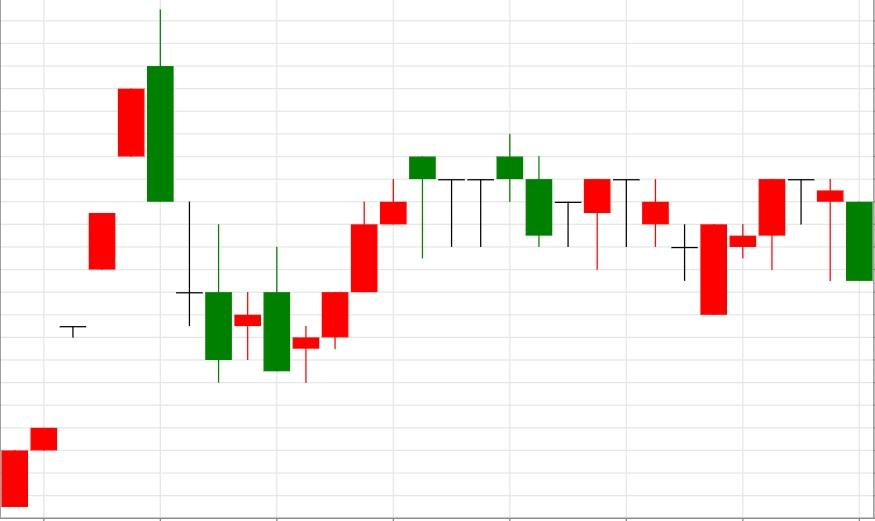bearish_engulfing_fall: (0, 9, 175, 508)
hanging_man_fall: (292, 156, 436, 383)
three_white_soldiers_rise: (146, 7, 379, 383)
